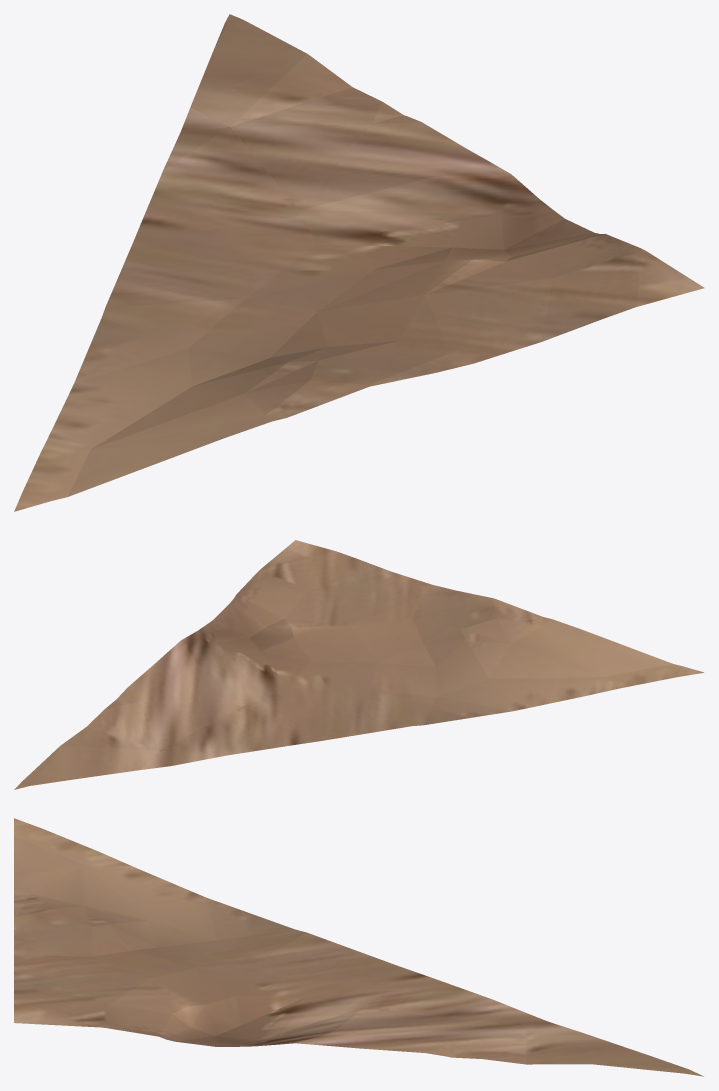
The picture shows the model from 3 angles, top to bottom: view 1: azimuth 30°, elevation 25°; view 2: azimuth 150°, elevation 25°; view 3: azimuth 270°, elevation 25°; orthographic projection. The views are drawn at different scales.
Size of the model in its own units: 1.34 by 0.1382 by 1.6.
Materials: 1 (1 with a texture image).
